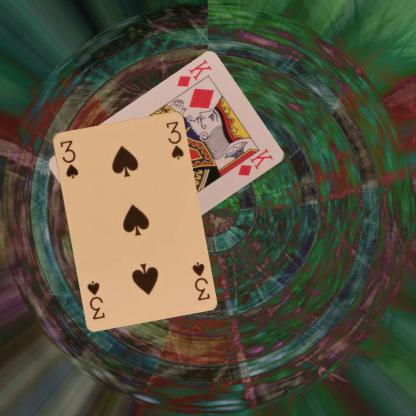3s: (189, 258, 211, 302), (57, 138, 80, 180)
Kd: (174, 57, 213, 89)
